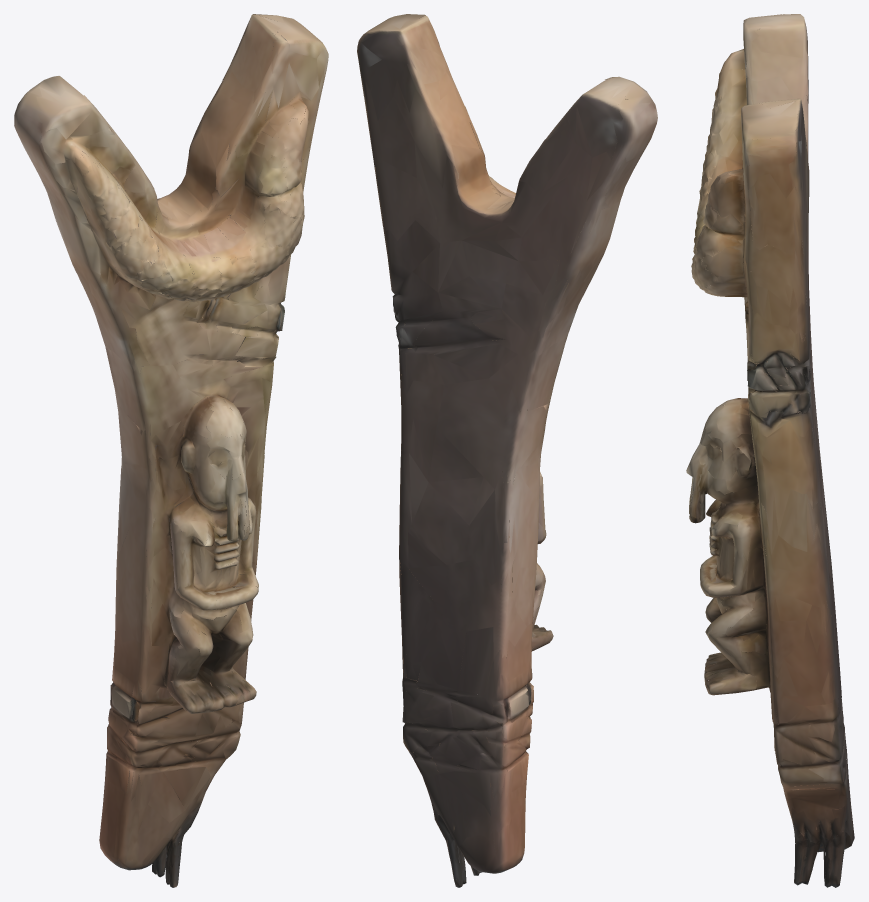
The model's file is pilier_2.glb.
3 renders of one model, left to right at view 1: azimuth 30°, elevation 25°; view 2: azimuth 150°, elevation 25°; view 3: azimuth 270°, elevation 25°, orthographic. The views are drawn at different scales.
Parts seen in each view (by area): view 1: HP; view 2: HP; view 3: HP.
Boxes of the visible parts, x1,y1,x2,y2 form: HP: [14, 14, 328, 887]; HP: [357, 14, 657, 887]; HP: [686, 14, 854, 887].
Size of the model in its own units: 0.4029 by 1.13 by 0.2097.
Materials: 1 (1 with a texture image).
